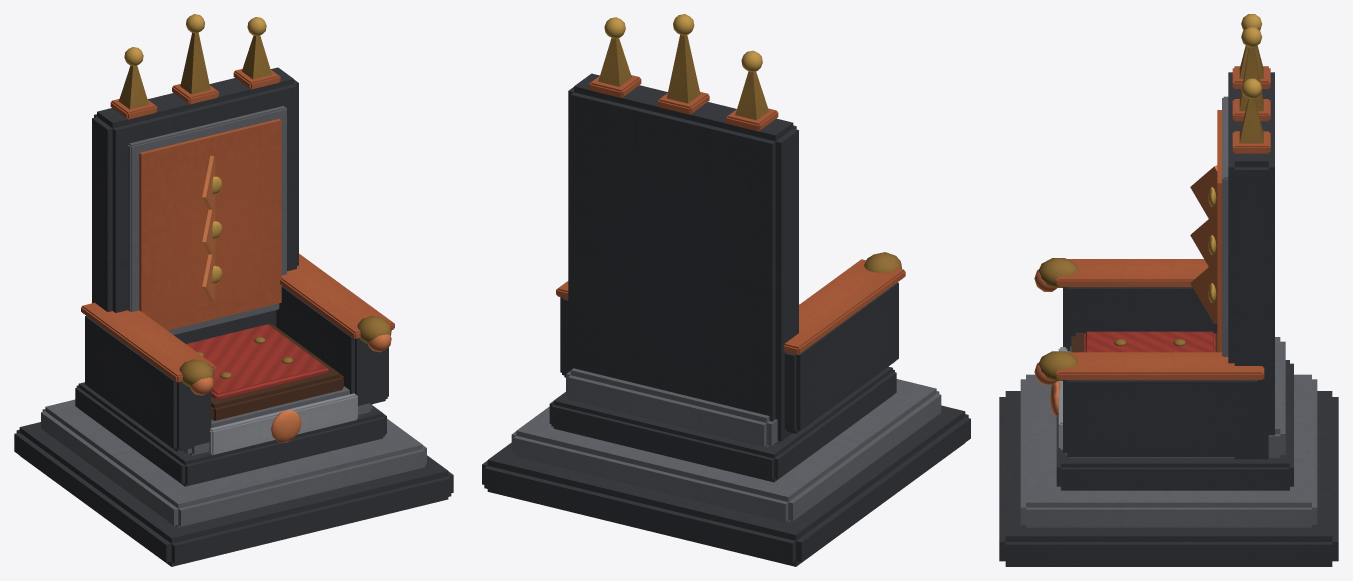
Rendered from throne_basalt_copper.glb.
3 views of the same model, side by side, from view 1: azimuth 30°, elevation 25°; view 2: azimuth 150°, elevation 25°; view 3: azimuth 270°, elevation 25° (orthographic). The views are drawn at different scales.
Parts seen in each view (by area): view 1: throne_basalt_copper; view 2: throne_basalt_copper; view 3: throne_basalt_copper.
Boxes of the visible parts, bbox=[...] form: throne_basalt_copper: bbox=[14, 14, 453, 566]; throne_basalt_copper: bbox=[482, 14, 970, 566]; throne_basalt_copper: bbox=[999, 14, 1338, 566].
Size of the model in its own units: 1.68 by 2.43 by 1.6.
1 material, 1 textured.
